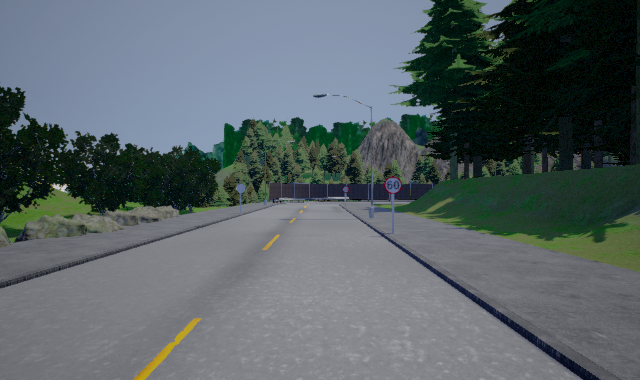traffic_sign: (384, 176, 402, 194)
